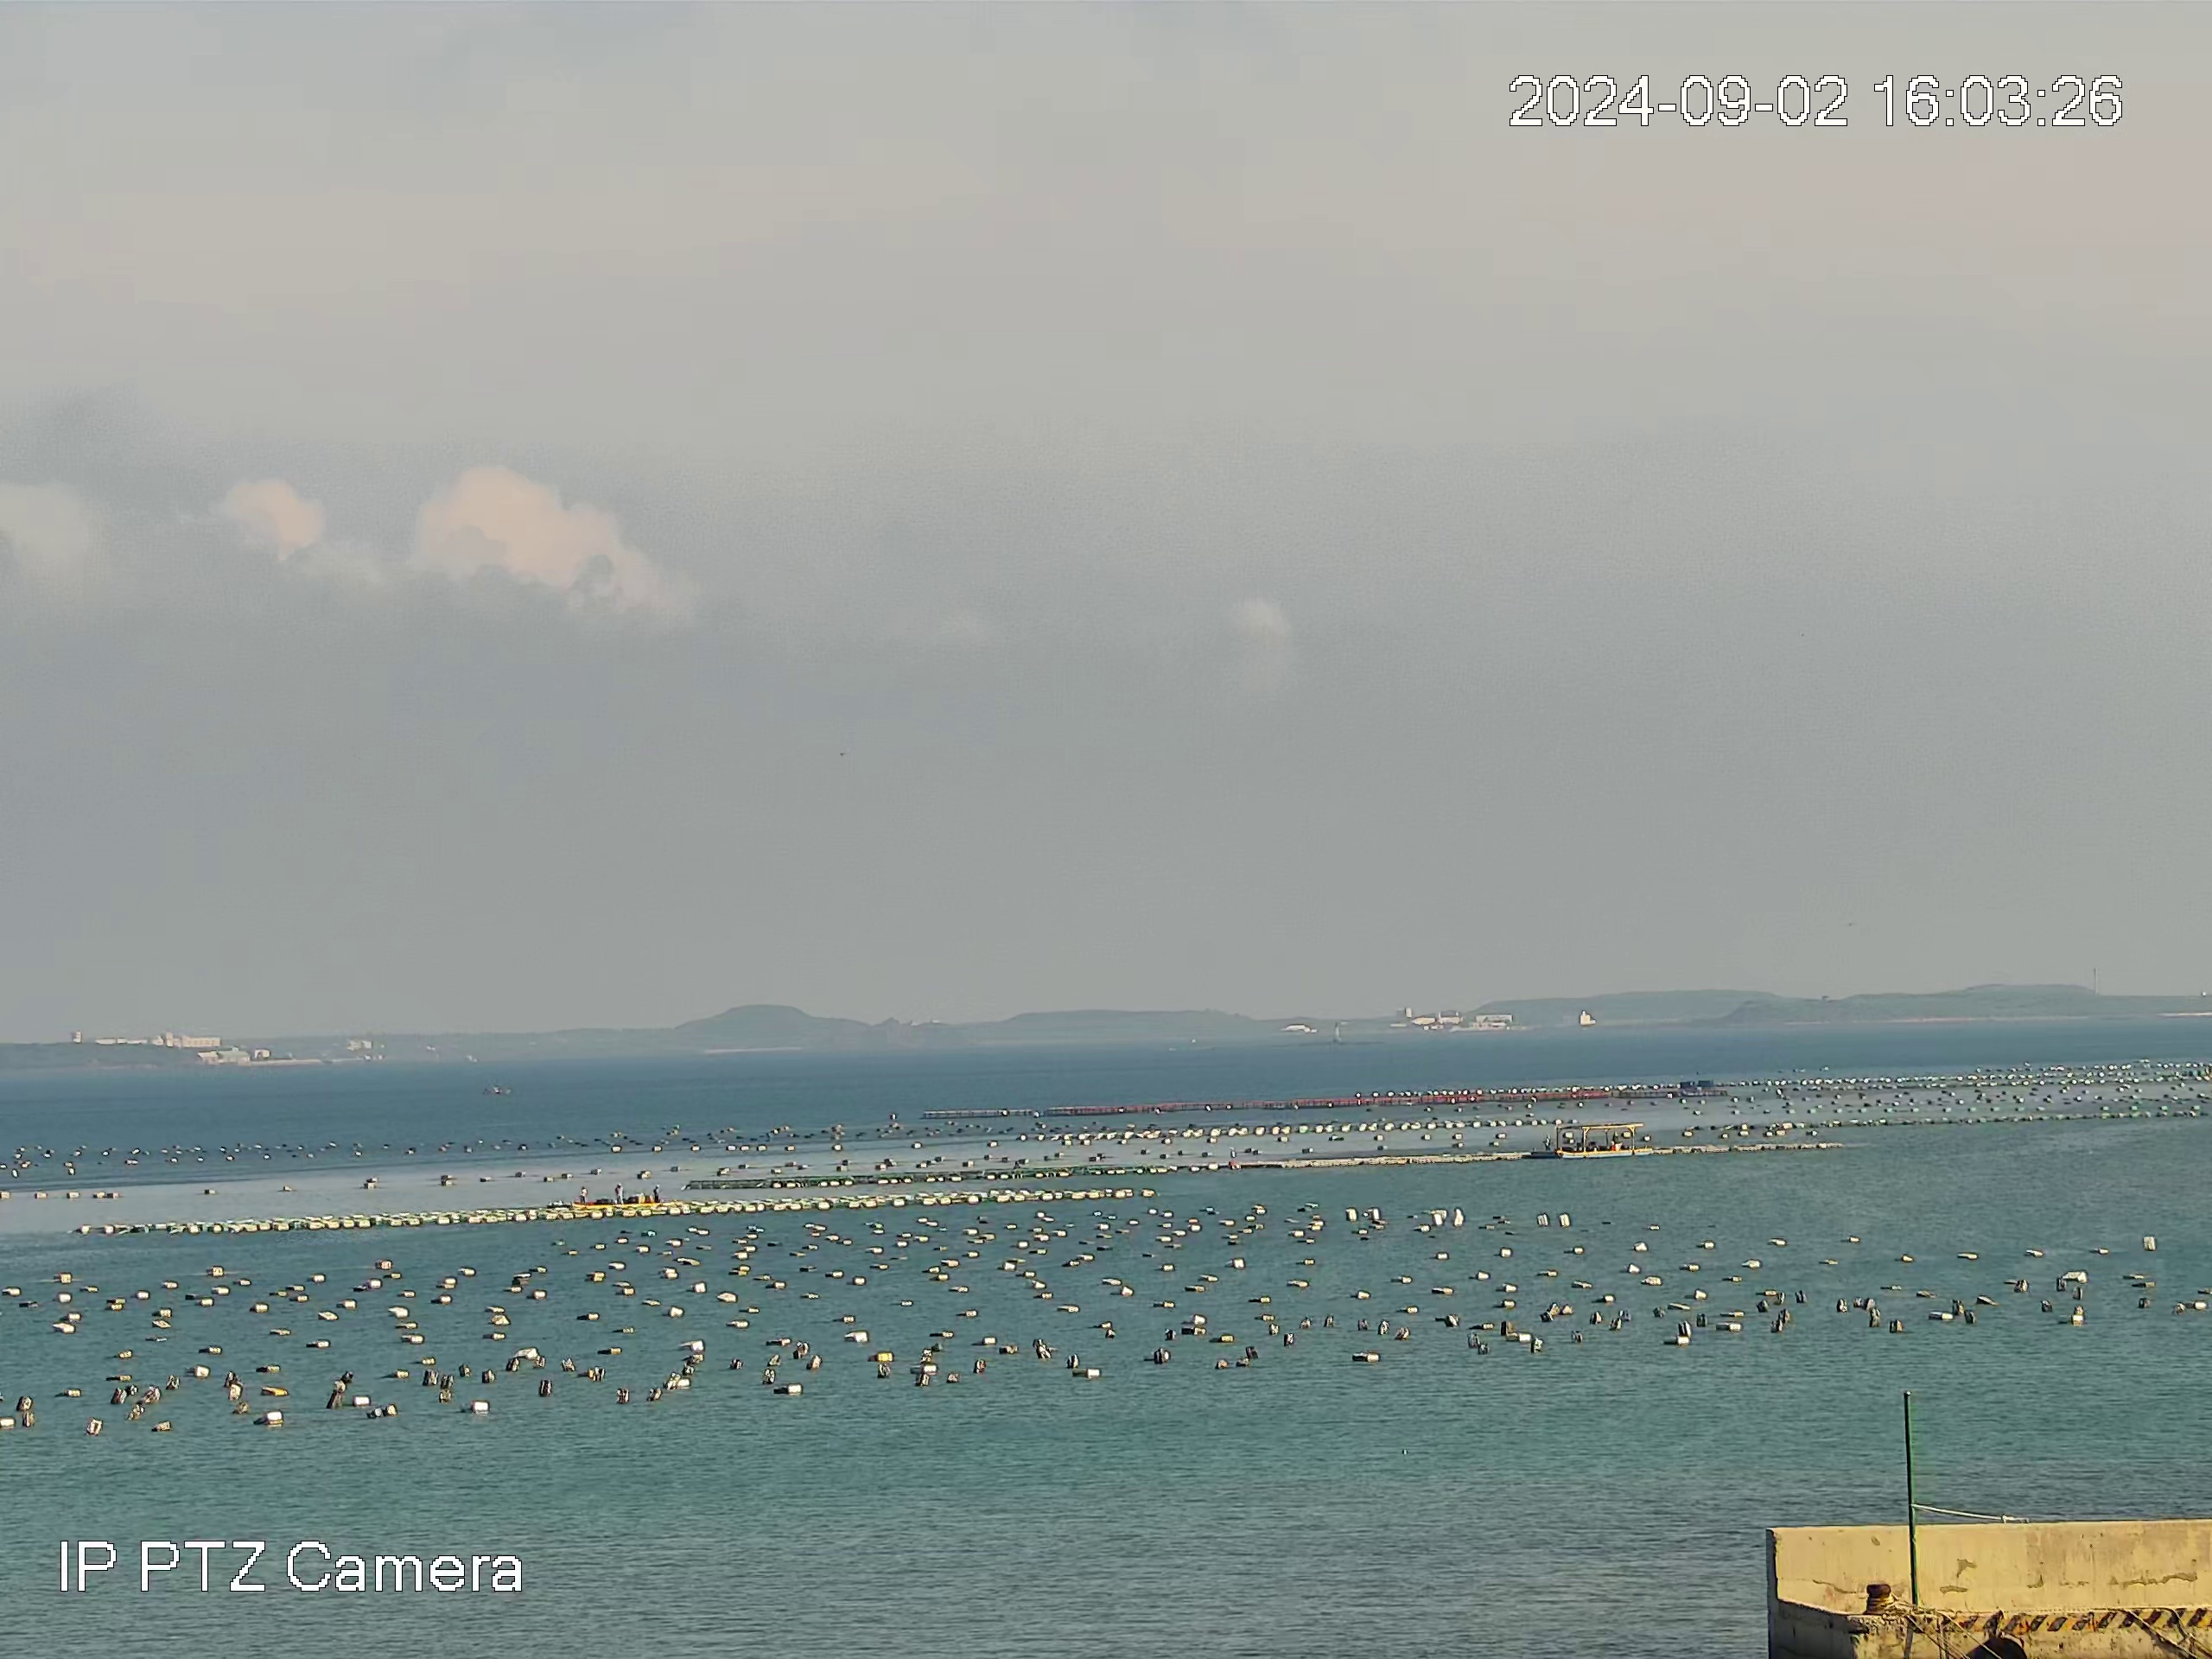boat: (1553, 1122, 1653, 1160), (569, 1182, 665, 1210), (482, 1083, 512, 1096)
